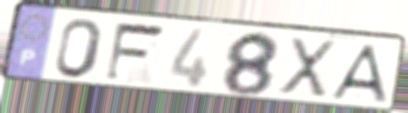0: (54, 17, 106, 80)
4: (167, 26, 214, 91)
8: (222, 30, 282, 98)
A: (327, 43, 391, 106)
F: (102, 21, 169, 85)
X: (275, 36, 339, 102)
